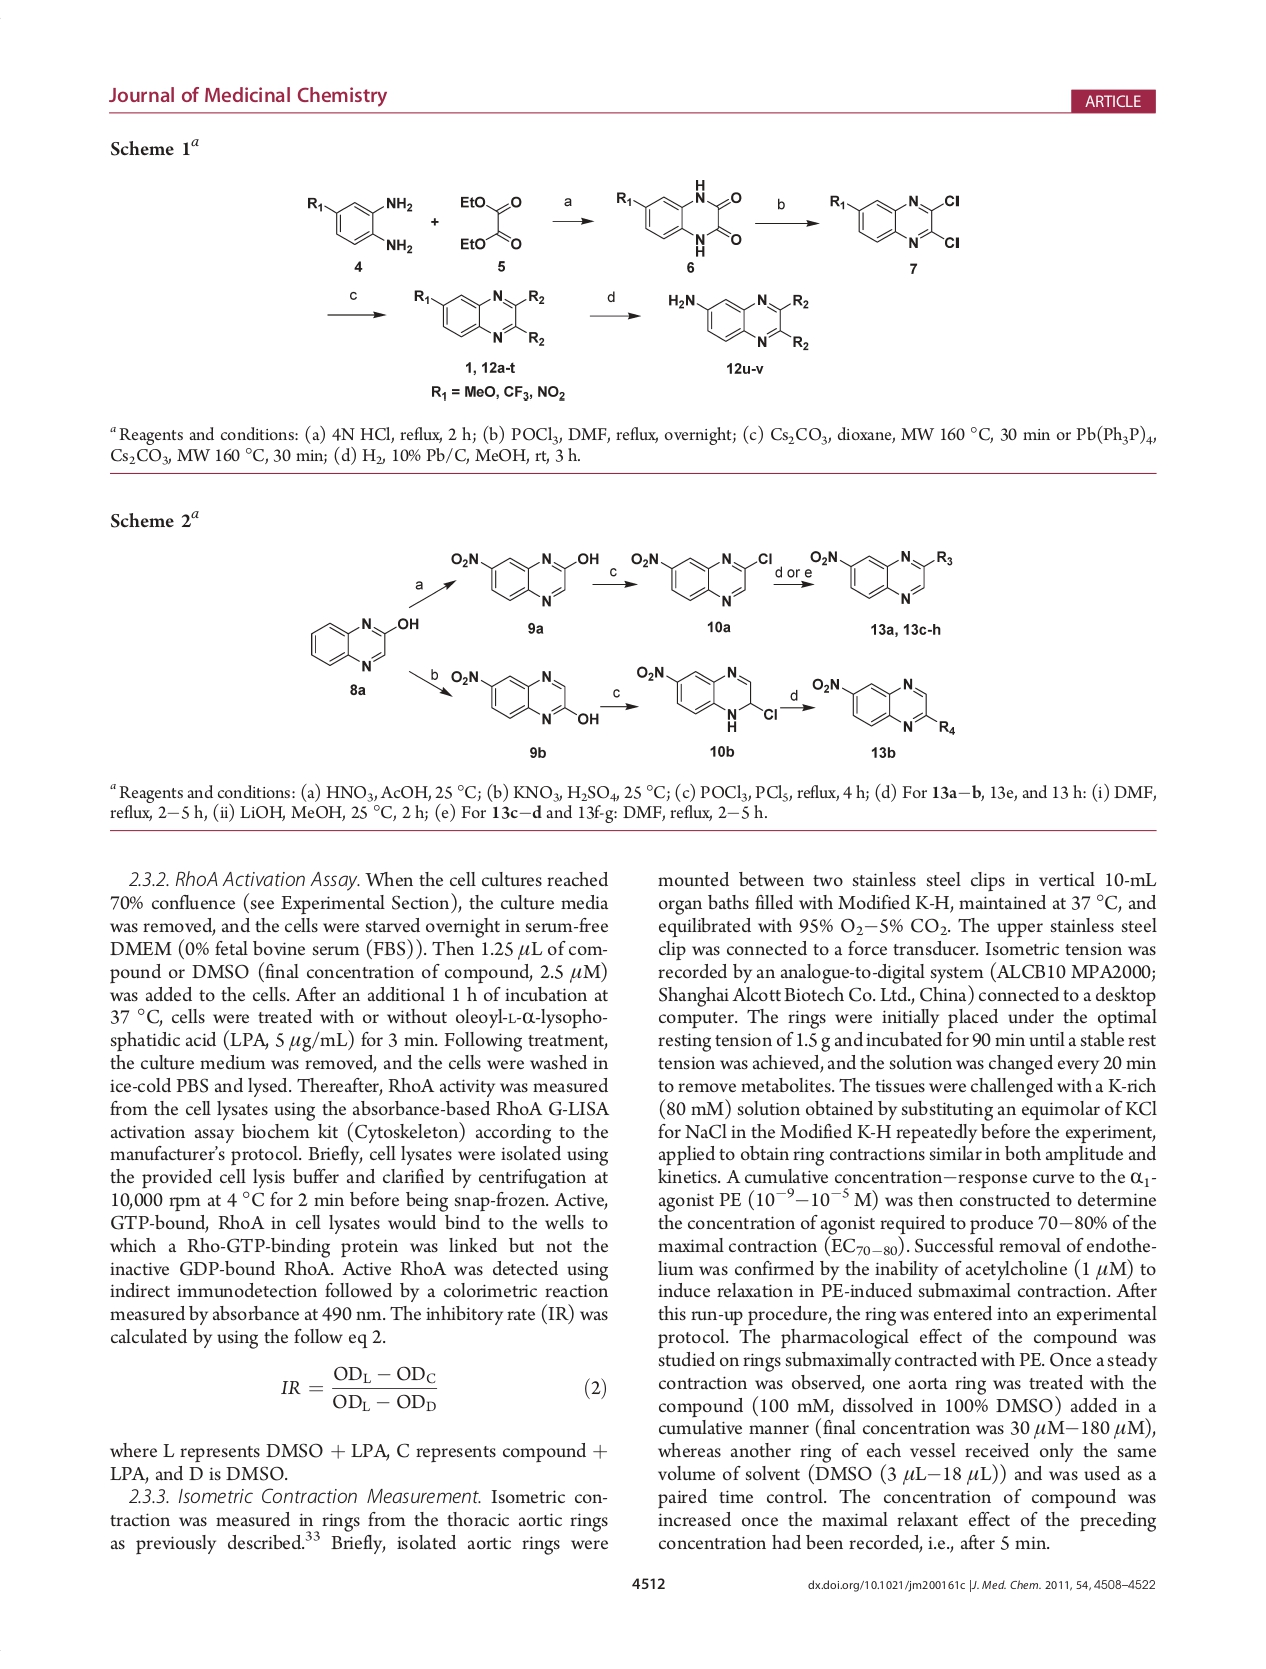exist_molecular: (612, 173, 745, 258), (633, 662, 781, 734), (809, 673, 957, 741), (665, 286, 813, 354), (449, 666, 602, 730), (407, 283, 552, 350), (823, 186, 964, 253), (448, 548, 601, 606), (629, 548, 774, 609), (806, 547, 953, 604), (303, 188, 418, 258), (309, 614, 423, 676), (452, 193, 527, 258)
